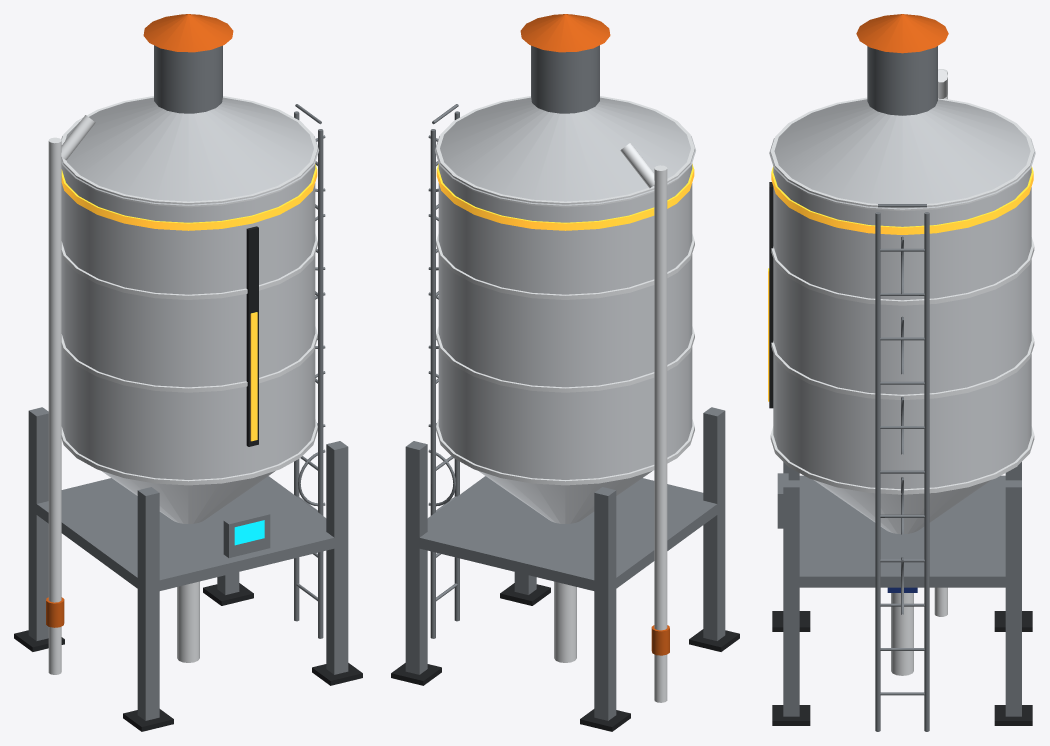
The model's file is silo-15t.glb.
3 views of the same model, side by side, from view 1: azimuth 30°, elevation 25°; view 2: azimuth 150°, elevation 25°; view 3: azimuth 270°, elevation 25° (orthographic).
Parts seen in each view (by area): view 1: SimReady_Flour_Silo_15t, anim_pulse; view 2: SimReady_Flour_Silo_15t; view 3: SimReady_Flour_Silo_15t.
Boxes of the visible parts, x1,y1,x2,y2 form: SimReady_Flour_Silo_15t: (14, 14, 362, 731); anim_pulse: (250, 312, 257, 441); SimReady_Flour_Silo_15t: (391, 14, 739, 731); SimReady_Flour_Silo_15t: (769, 14, 1035, 731).
Bounding box in the file's own units: 2.24 × 5.33 × 1.97.
